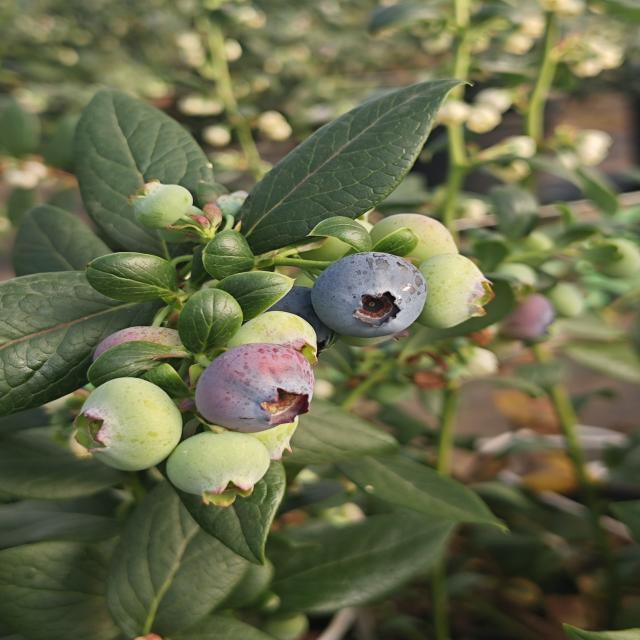ripe: (308, 249, 437, 344), (244, 274, 344, 358)
